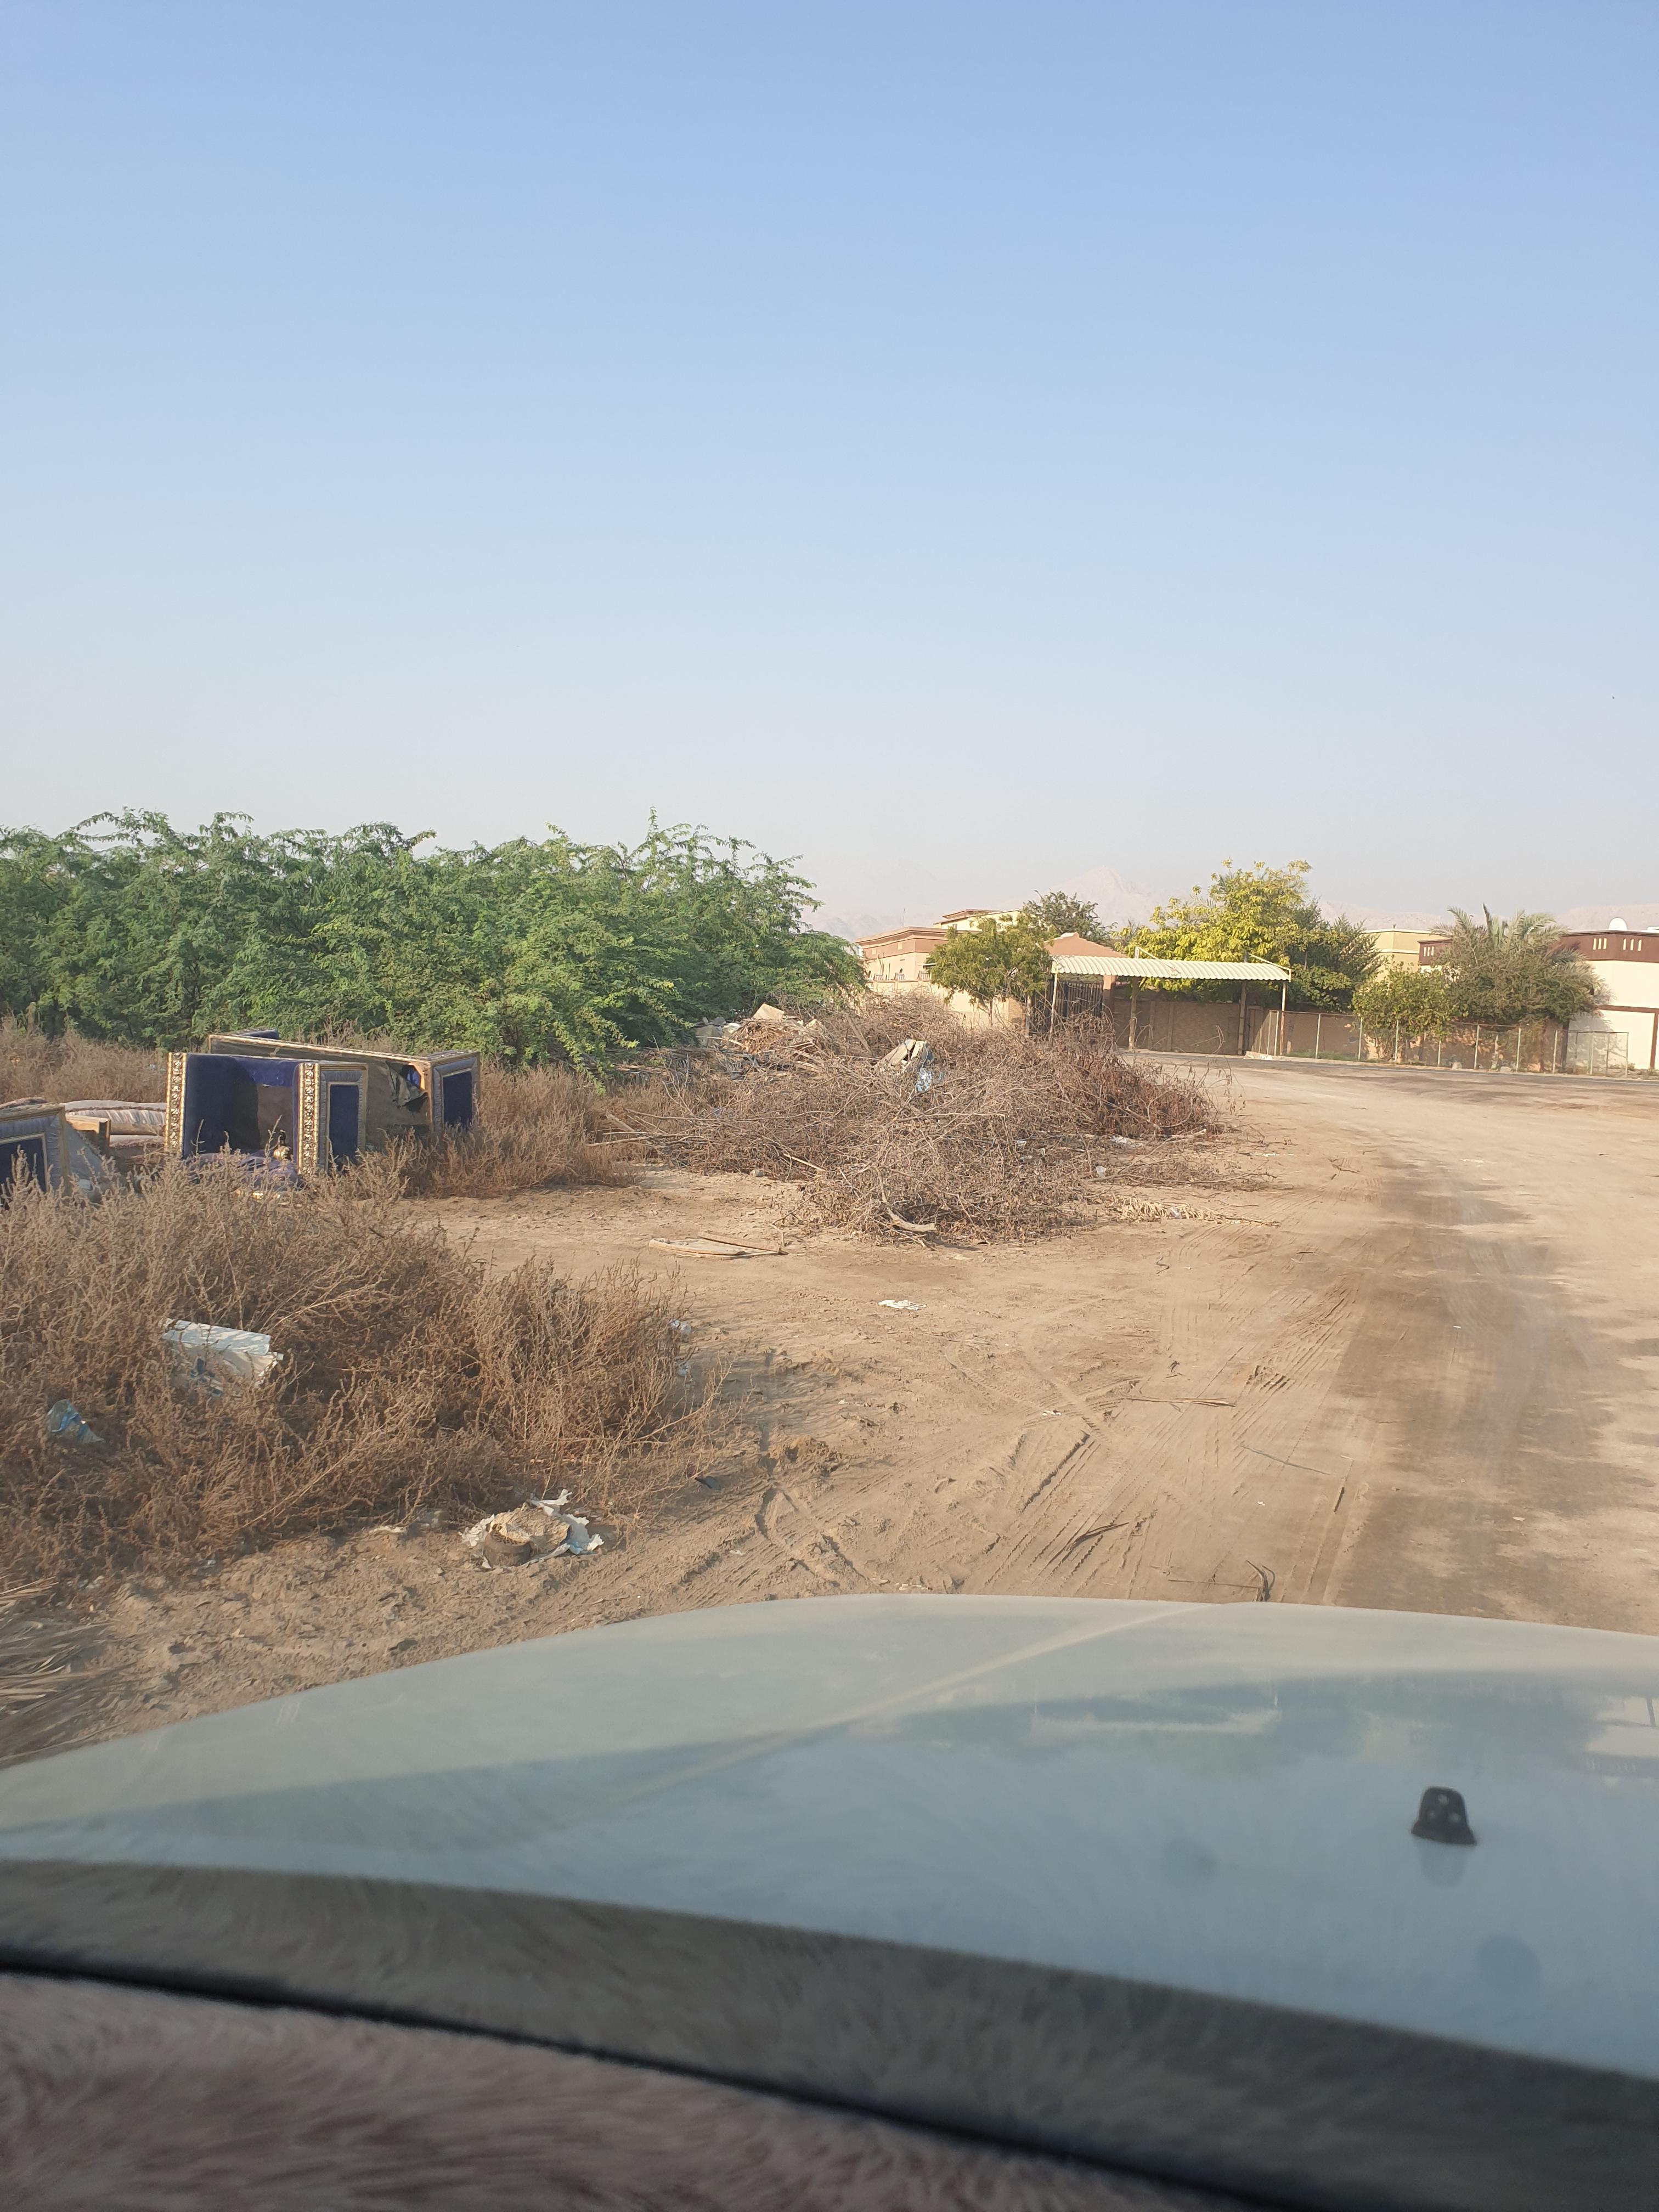fallen_trees: (781, 1181, 983, 1252)
uncollected_waste: (127, 1017, 549, 1200)
